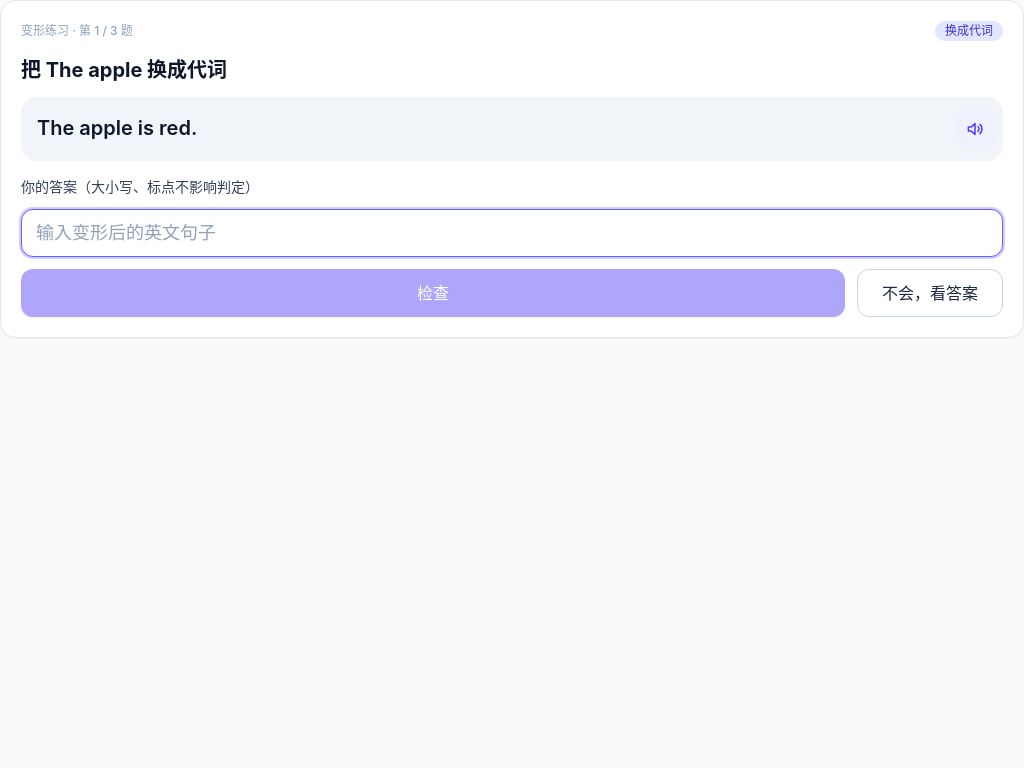
Scenario: TransformDrill › accepts an alt answer
Type "It is red." into the field labelled "你的答案（大小写、标点不影响判定）".
click(512, 232); type("It is red.")  # box [21,208,1003,256]
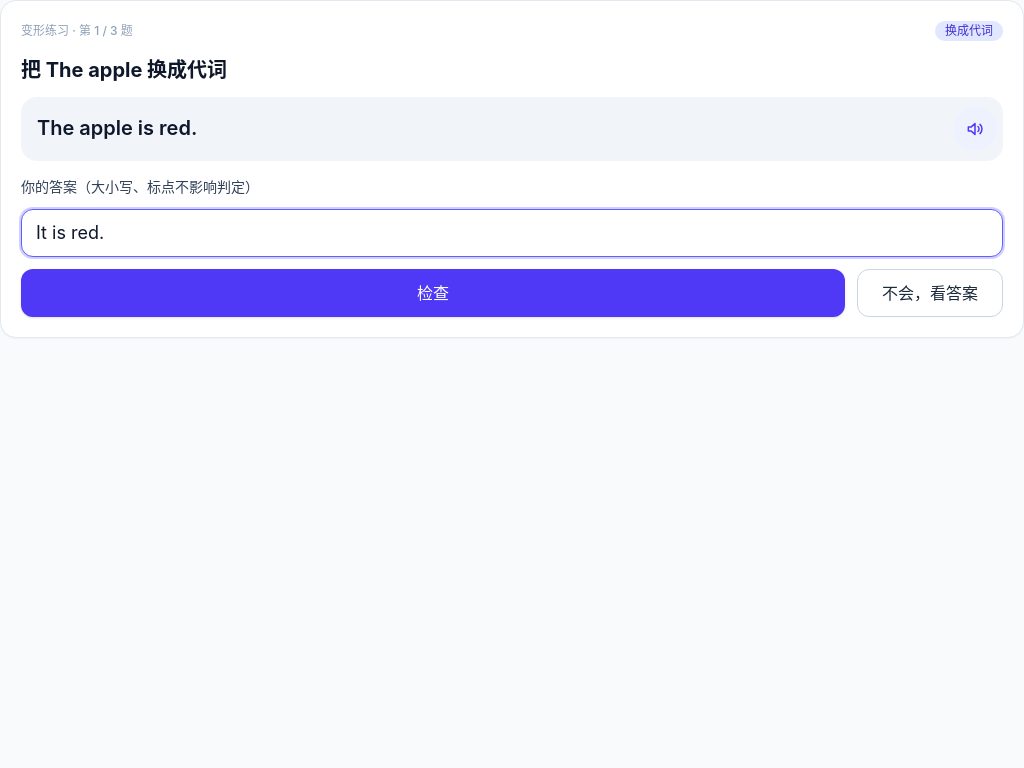
Click the button "检查".
click(433, 292)  # box [21,268,845,316]
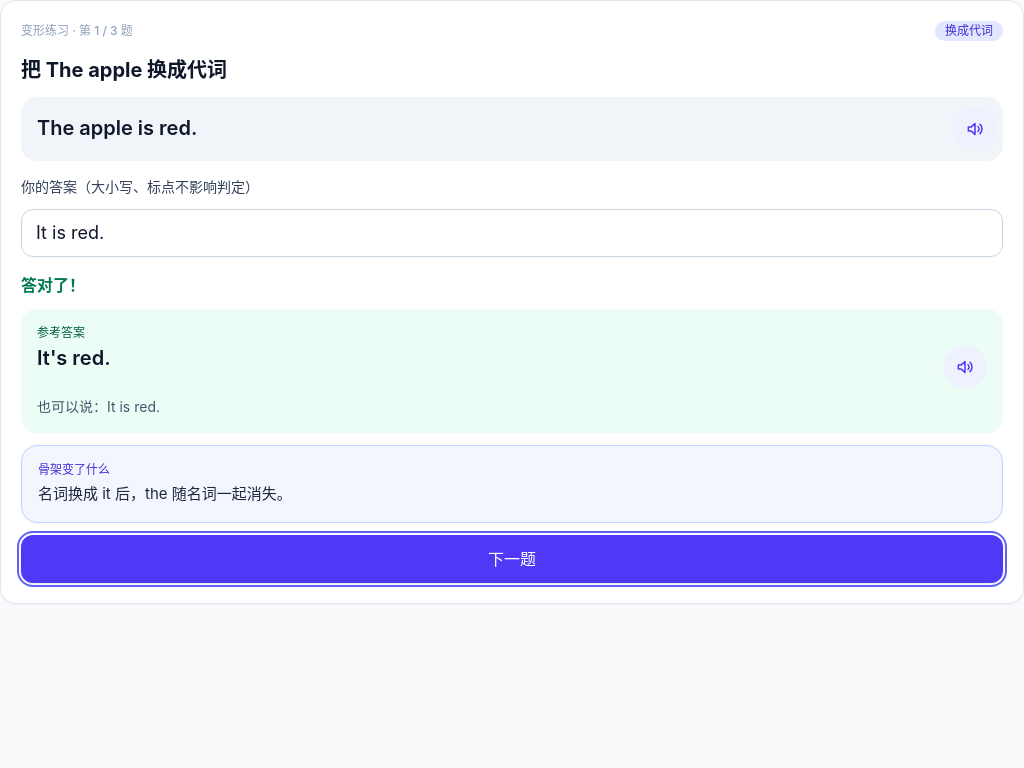
Expected: the text "答对了！" is shown, [21,274,85,294]
